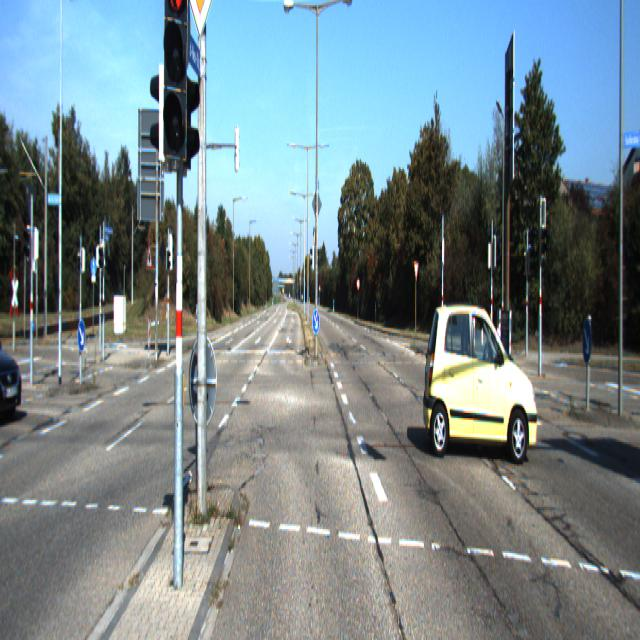Car: (422, 300, 539, 465), (0, 309, 27, 425)
